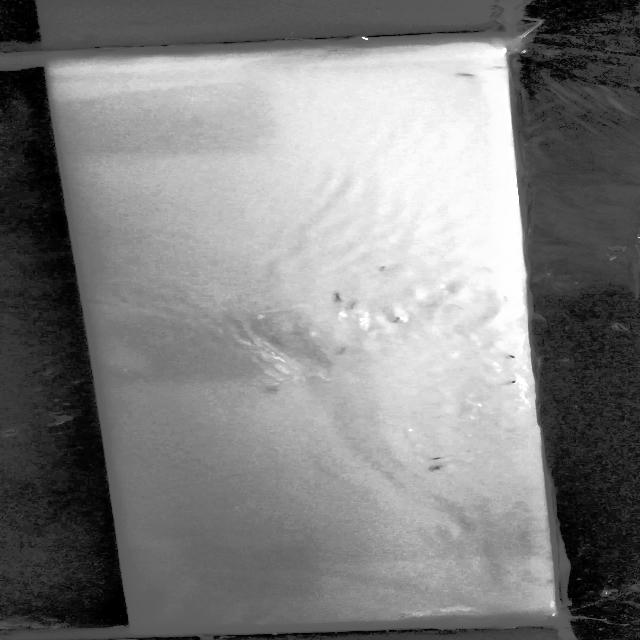shrimp: (374, 261, 398, 278), (426, 459, 452, 472), (338, 302, 365, 313), (505, 346, 523, 361), (389, 315, 411, 327), (427, 451, 453, 461), (452, 70, 483, 78), (503, 377, 524, 388), (329, 291, 348, 302)
